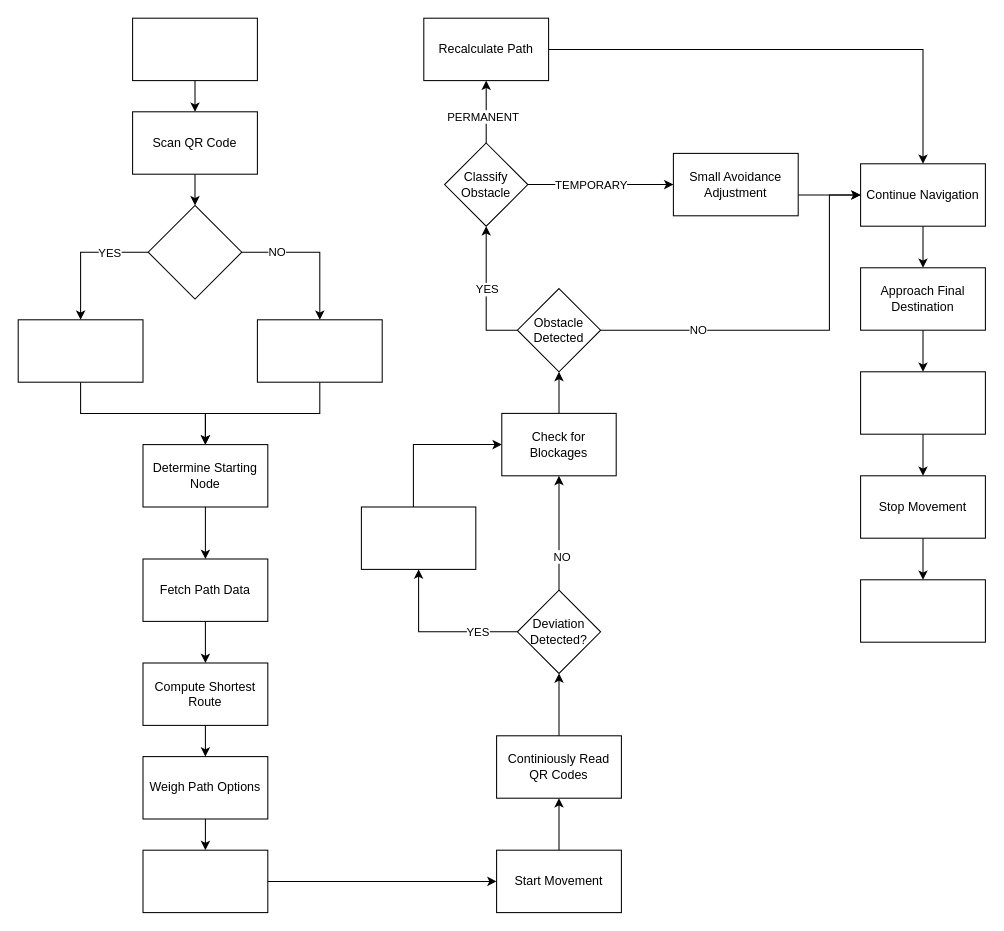
Some shapes in this 1004 by 931 pixel diagram are drawn without their labels. The centre of each missing label's shape, as x and y in pixels:
"Adjust for Minor Deviatons" belongs at point (418, 537).
"Confirm Final Location" belongs at point (922, 402).
"Confirm Path Selection" belongs at point (205, 881).
"Cross-Check Position" belongs at point (80, 350).
"Localization and Positioning" belongs at point (194, 49).
"QR Code Found?" belongs at point (194, 251).
"Use Image Recognition" belongs at point (319, 350).
"User Confirmation" belongs at point (922, 610).
